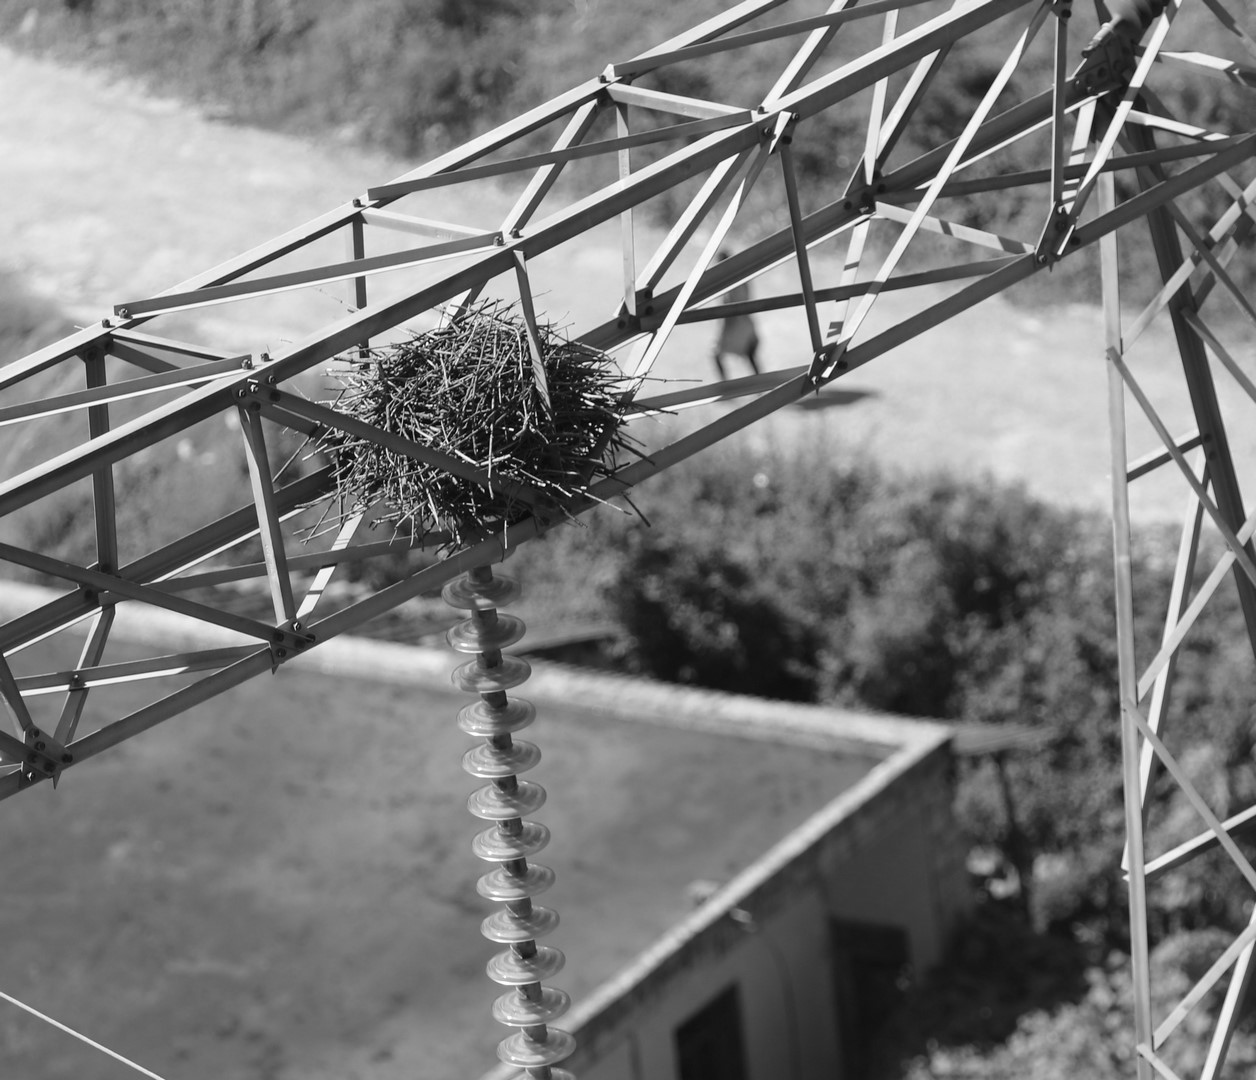niaowo: (301, 289, 655, 572)
